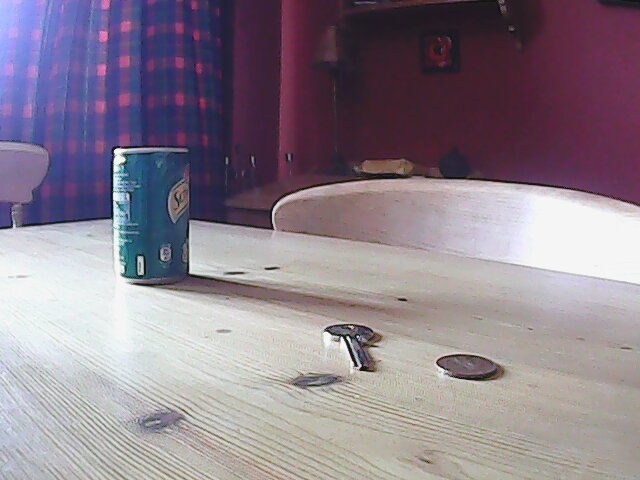Can: (105, 142, 197, 292)
Coin: (431, 350, 502, 382)
Key: (320, 321, 381, 378)
